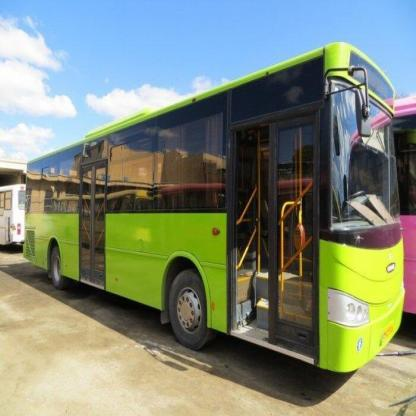Bus: (25, 66, 406, 386), (365, 83, 416, 324), (0, 169, 35, 266)
